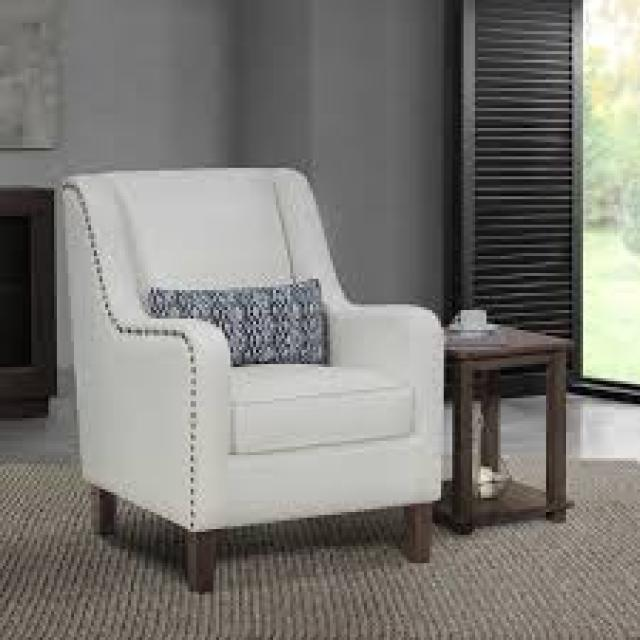chair: (6, 130, 455, 632)
